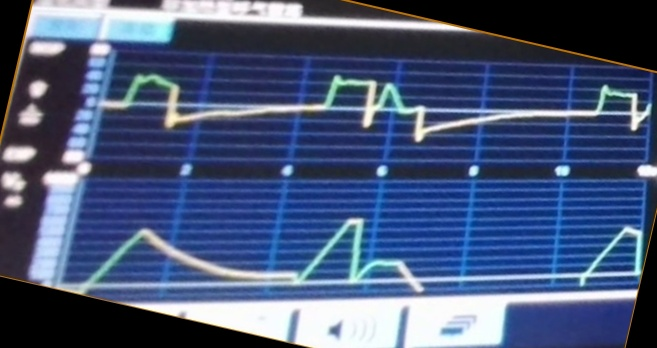Double_Triggering Flow: (107, 73, 646, 150)
Double_Triggering Volume: (87, 216, 640, 286)
